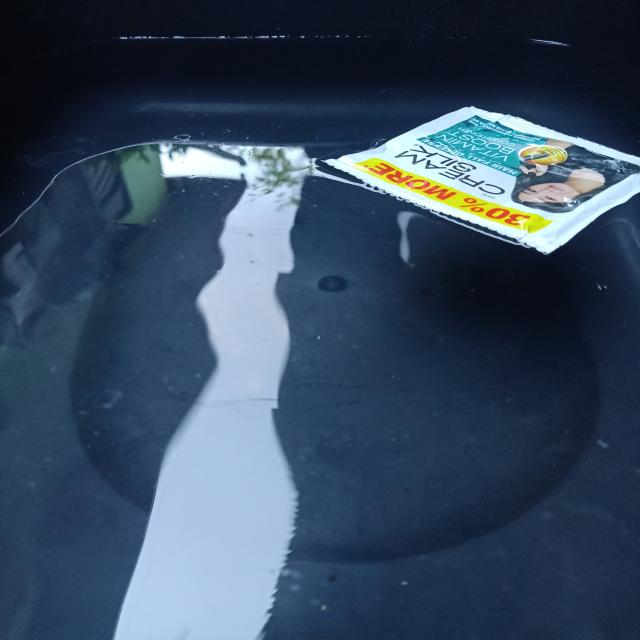Plastic Wrapper: (315, 107, 640, 253)
